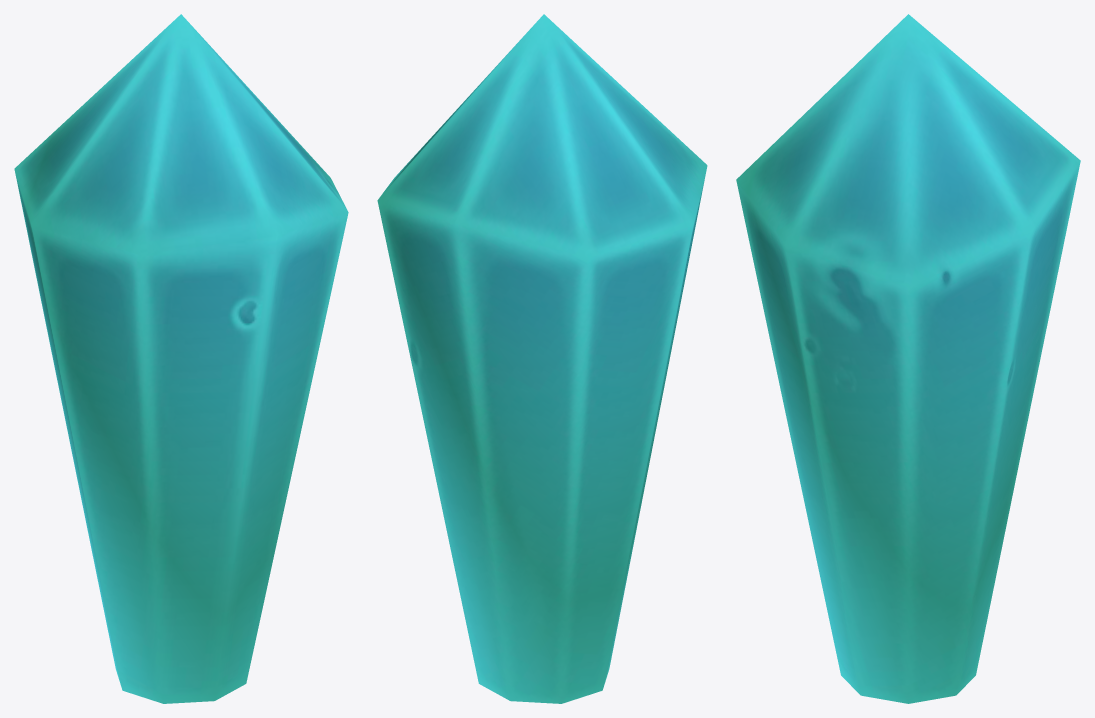
The model's file is crystal_lowpoly.glb.
3 views of the same model, side by side, from view 1: azimuth 30°, elevation 25°; view 2: azimuth 150°, elevation 25°; view 3: azimuth 270°, elevation 25° (orthographic).
Visible parts, largest first — view 1: Cylinder_low; view 2: Cylinder_low; view 3: Cylinder_low.
Boxes of the visible parts, left/top/right/bottom form: Cylinder_low: left=14, top=14, right=348, bottom=703; Cylinder_low: left=377, top=14, right=707, bottom=703; Cylinder_low: left=736, top=14, right=1080, bottom=703.
Bounding box in the file's own units: 2.26 × 4.79 × 2.26.
Materials: 1 (1 with a texture image).
